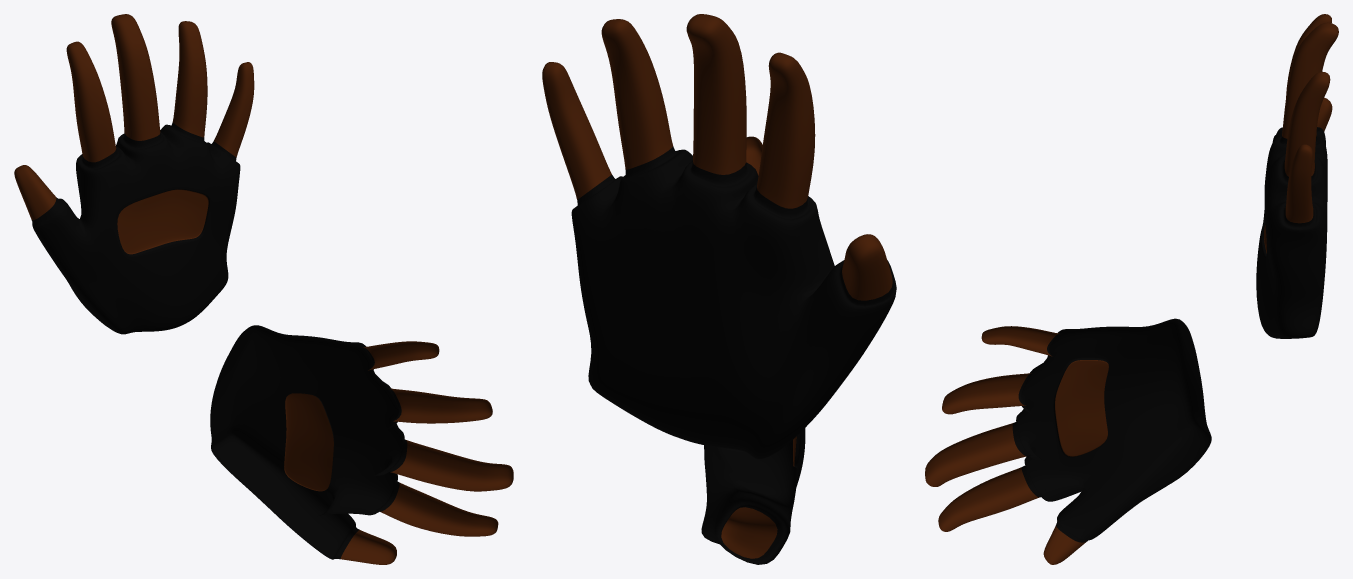
The model's file is HandsV2.fbx.
3 views of the same model, side by side, from view 1: azimuth 30°, elevation 25°; view 2: azimuth 150°, elevation 25°; view 3: azimuth 270°, elevation 25° (orthographic). The views are drawn at different scales.
Visible parts, largest first — view 1: Mano Drch, Mano Izq; view 2: Mano Drch, Mano Izq; view 3: Mano Izq, Mano Drch.
Part boxes in pixels (box(x1,y1,x2,y2)): Mano Drch: box(14, 14, 254, 334); Mano Izq: box(210, 325, 513, 564); Mano Drch: box(542, 14, 896, 459); Mano Izq: box(701, 136, 805, 564); Mano Izq: box(925, 318, 1211, 564); Mano Drch: box(1256, 14, 1338, 338).
Size of the model in its own units: 170 by 255 by 200.
